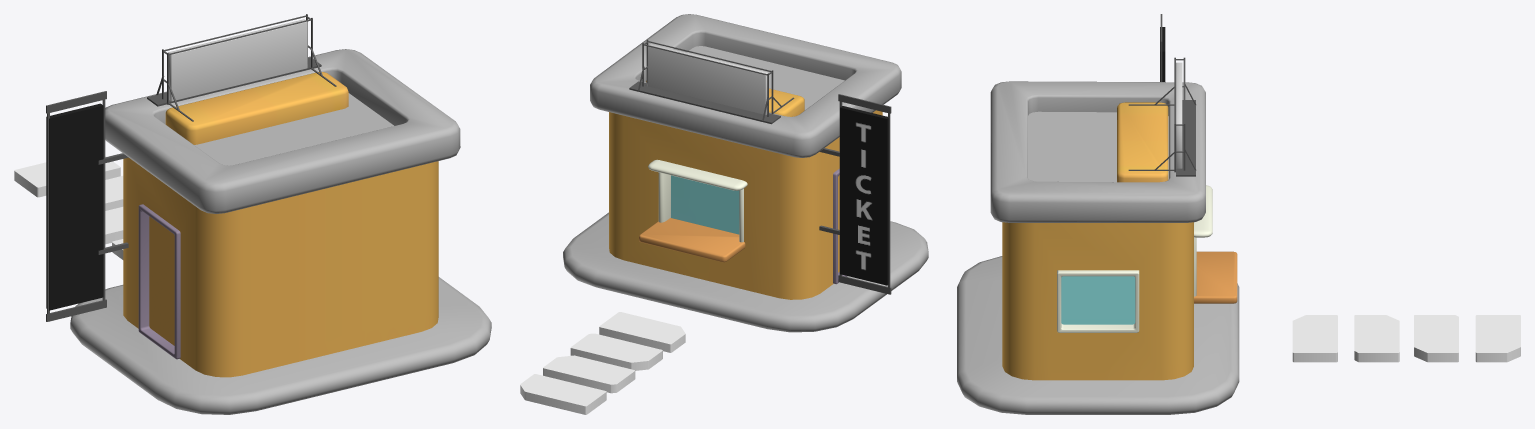
Rendered from ticket_office_yellow.fbx.
3 views of the same model, side by side, from view 1: azimuth 30°, elevation 25°; view 2: azimuth 150°, elevation 25°; view 3: azimuth 270°, elevation 25° (orthographic). The views are drawn at different scales.
Parts seen in each view (by area): view 1: ticket_office_yellow, stone3, stone2, stone4; view 2: ticket_office_yellow, stone3, stone4, stone1, stone2; view 3: ticket_office_yellow, stone1, stone2, stone3, stone4.
Boxes of the visible parts, bbox=[...] form: ticket_office_yellow: bbox=[46, 14, 491, 414]; stone3: bbox=[14, 156, 120, 197]; stone2: bbox=[105, 207, 123, 244]; stone4: bbox=[105, 176, 123, 210]; ticket_office_yellow: bbox=[563, 14, 928, 332]; stone3: bbox=[520, 374, 606, 414]; stone4: bbox=[543, 355, 635, 393]; stone1: bbox=[599, 312, 685, 352]; stone2: bbox=[570, 333, 662, 370]; ticket_office_yellow: bbox=[957, 14, 1239, 414]; stone1: bbox=[1292, 315, 1337, 362]; stone2: bbox=[1354, 315, 1399, 362]; stone3: bbox=[1475, 315, 1520, 362]; stone4: bbox=[1414, 315, 1458, 362].
Size of the model in its own units: 510 by 360 by 729.
6 materials, 5 textured.
